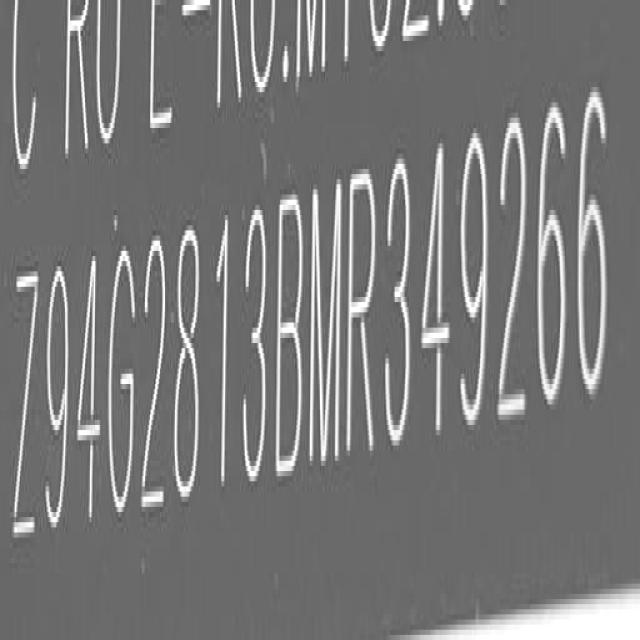1: (214, 212, 232, 496)
2: (498, 115, 533, 426), (142, 242, 170, 520)
3: (388, 148, 417, 456), (243, 204, 270, 495)
4: (422, 136, 455, 446), (76, 255, 103, 534)
6: (539, 96, 573, 410), (577, 85, 609, 402)
8: (175, 221, 203, 503)
9: (461, 129, 492, 436), (46, 263, 73, 541)
B: (278, 186, 306, 484)
G: (105, 242, 139, 512)
N: (308, 171, 344, 475)
R: (349, 168, 380, 470)
Z: (14, 265, 42, 555)
